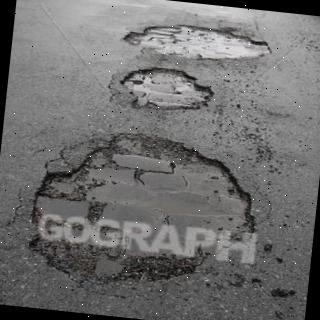pothole: (31, 133, 257, 283), (122, 24, 271, 61), (119, 67, 214, 111)
